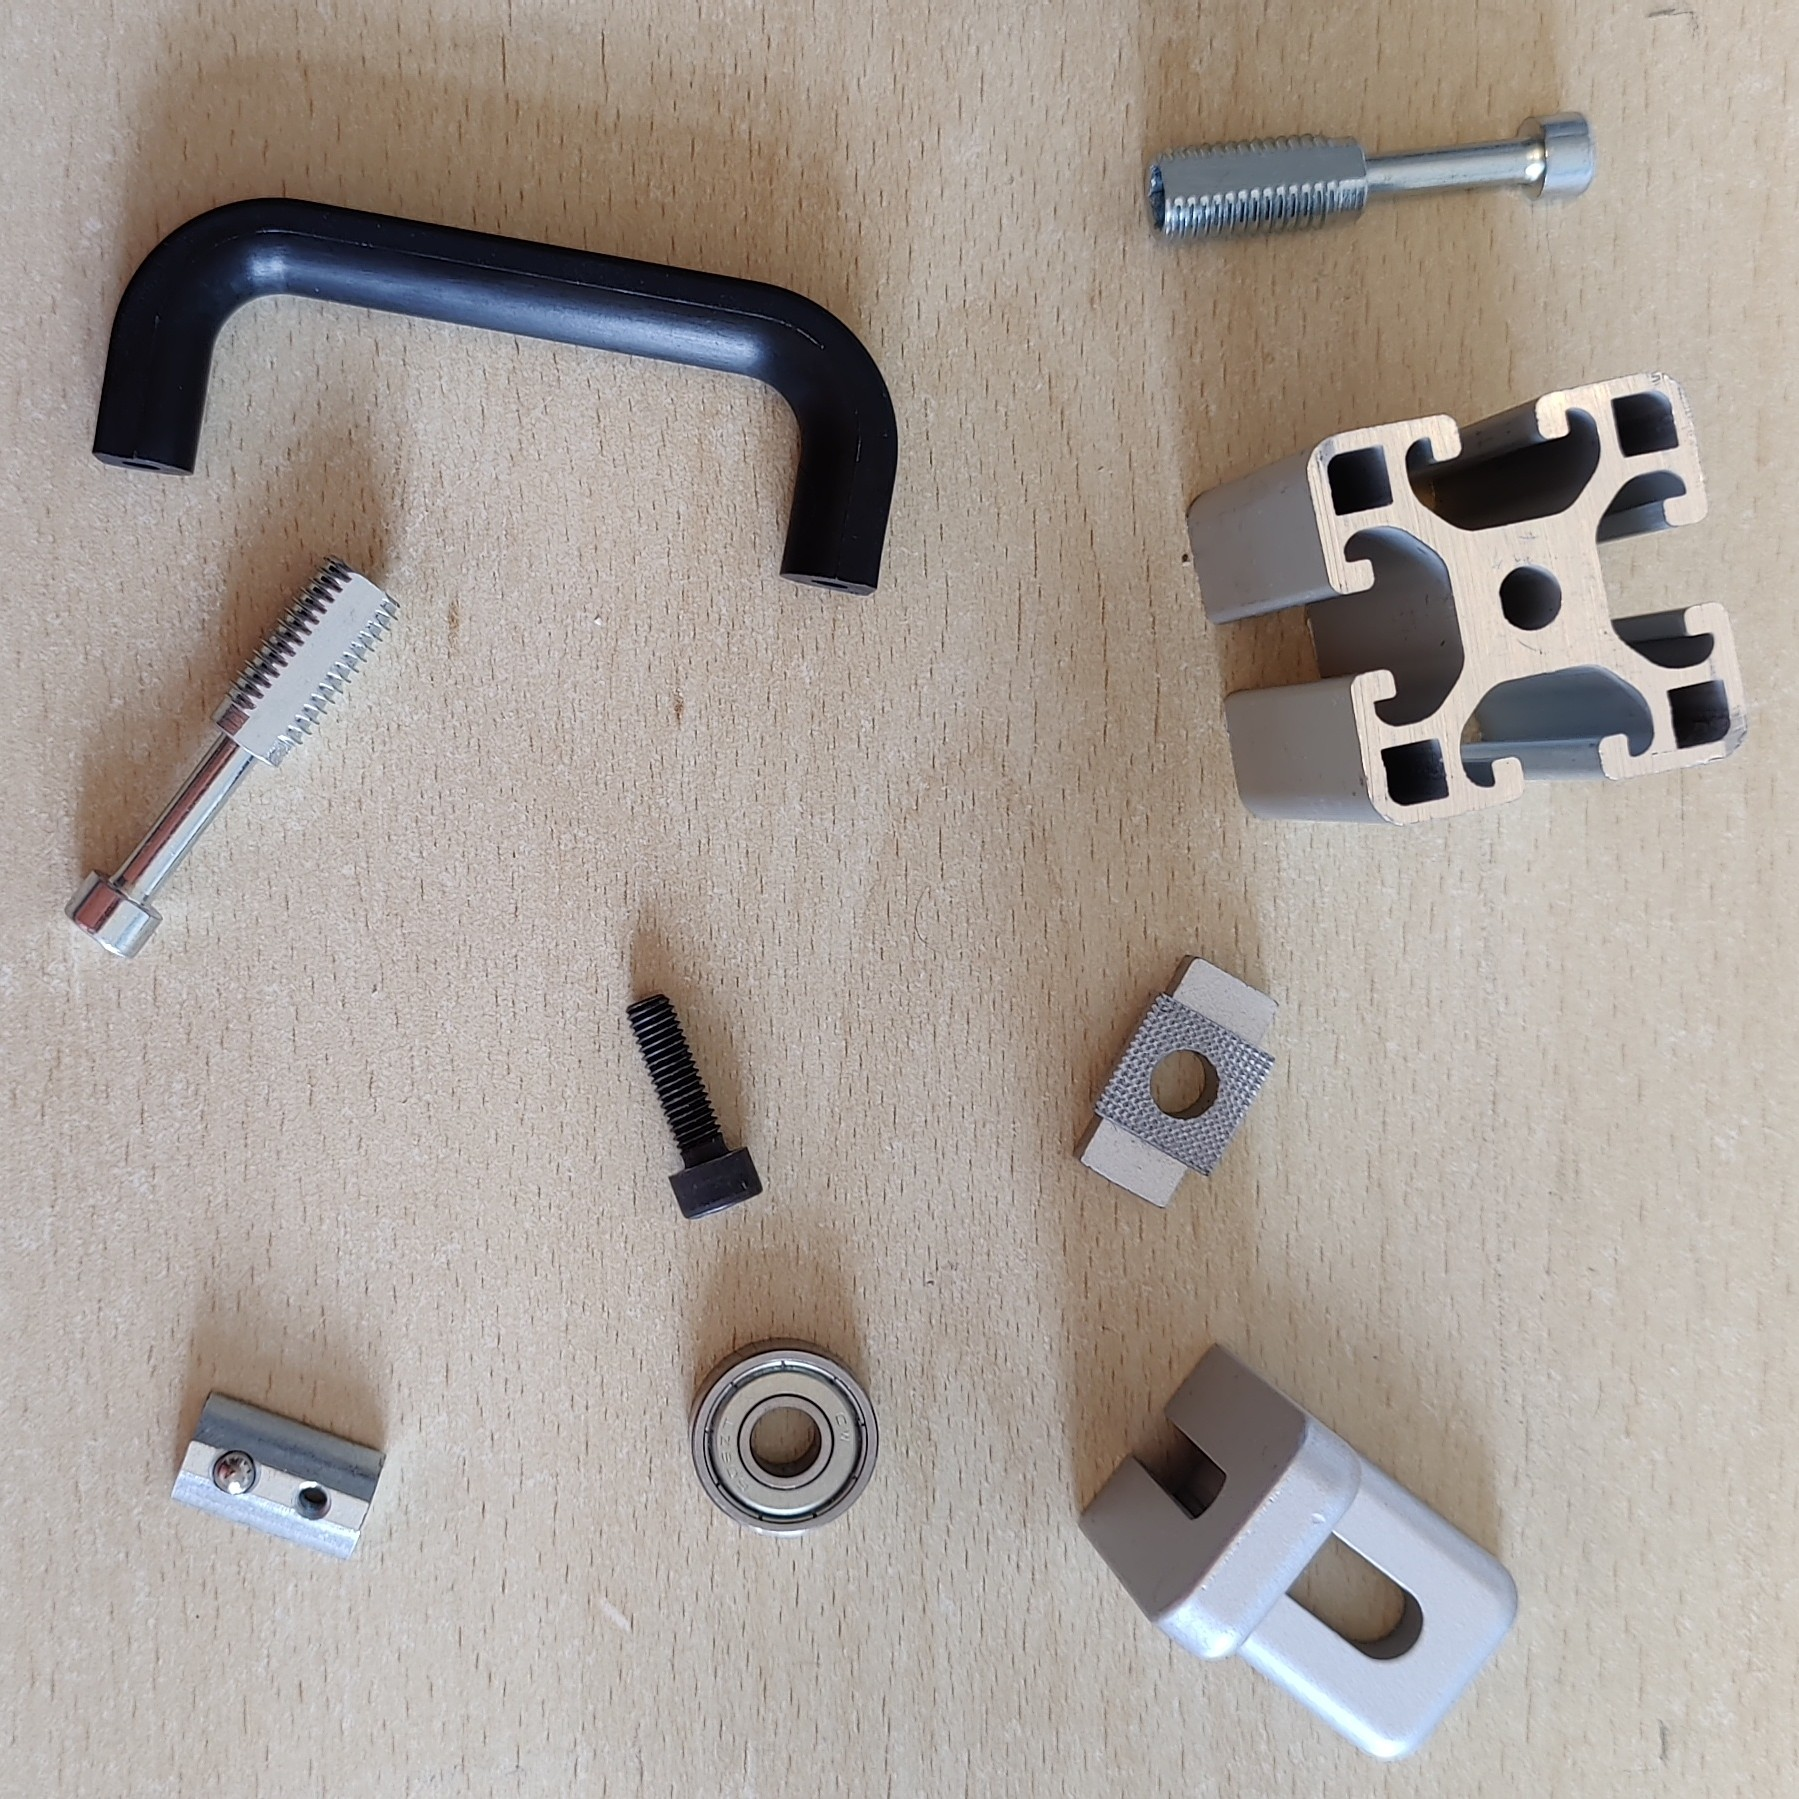Aluminium Extension: (1188, 371, 1751, 827)
Ball Bearing: (689, 1334, 881, 1540)
Multiwinkel: (1072, 1338, 1521, 1761)
Pull Handle: (92, 194, 901, 598)
Shoulder Socket Head Cap Screw: (64, 552, 400, 960), (1142, 110, 1596, 244)
Socket Head Cap Screw: (624, 992, 766, 1222)
T Nut Square: (1069, 952, 1283, 1209)
T Spring Nut: (168, 1385, 389, 1563)
